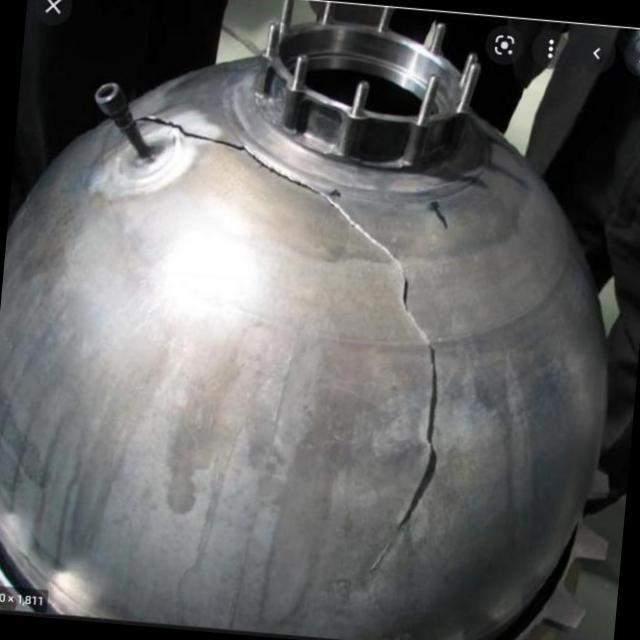defect: (134, 113, 441, 537)
